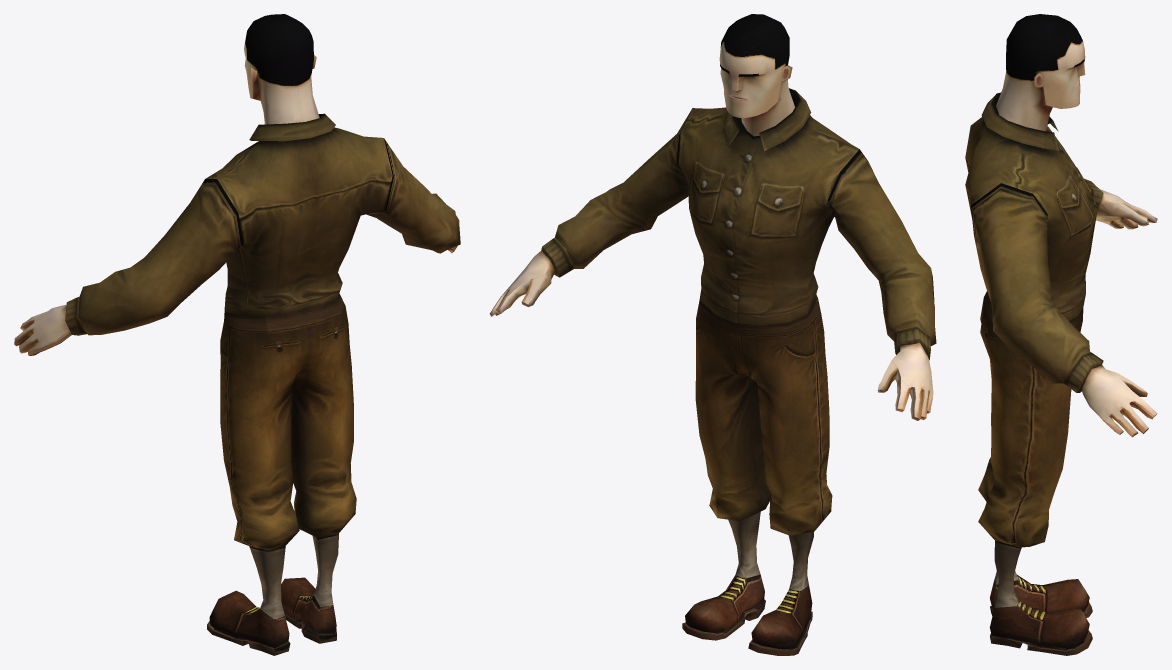
The model's file is royal.dae.
The picture shows the model from 3 angles, left to right: view 1: azimuth 30°, elevation 25°; view 2: azimuth 150°, elevation 25°; view 3: azimuth 270°, elevation 25°; orthographic projection.
Visible parts, largest first — view 1: m0_2Node, m0_3Node, m0_0Node, m0_1Node; view 2: m0_2Node, m0_3Node, m0_0Node, m0_1Node; view 3: m0_2Node, m0_3Node, m0_0Node, m0_1Node.
Part boxes in pixels (left/top/right/bottom): m0_2Node: left=65, top=113, right=460, bottom=335; m0_3Node: left=207, top=293, right=356, bottom=655; m0_0Node: left=244, top=14, right=319, bottom=124; m0_1Node: left=14, top=246, right=457, bottom=355; m0_2Node: left=541, top=88, right=936, bottom=360; m0_3Node: left=682, top=292, right=832, bottom=655; m0_0Node: left=719, top=14, right=794, bottom=136; m0_1Node: left=489, top=250, right=933, bottom=420; m0_2Node: left=965, top=92, right=1103, bottom=392; m0_3Node: left=978, top=299, right=1092, bottom=655; m0_0Node: left=996, top=14, right=1085, bottom=131; m0_1Node: left=1081, top=189, right=1157, bottom=437.
Bounding box in the file's own units: 1.36 × 1.84 × 0.5259.
Materials: 4 (4 with a texture image).
